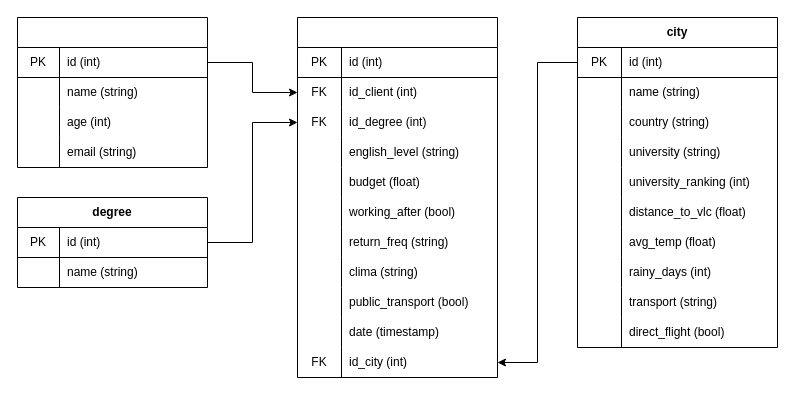
This 795x395 diagram has some shape labels left out. Here are the shapes that lost their labels. From the top down, the box of each, then its label:
(16, 16, 208, 168): student
(296, 16, 498, 378): form
